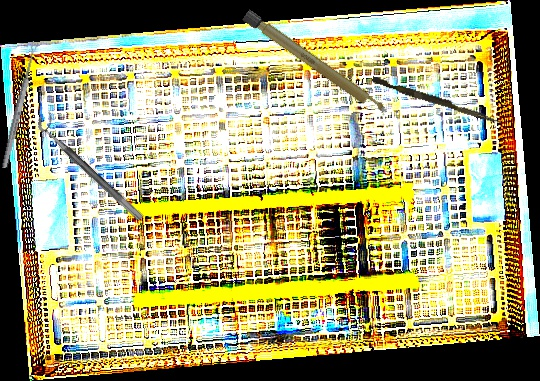Fixation Ring: (33, 109, 152, 222)
Pusher: (370, 76, 504, 125)
Scalpel Handle: (241, 9, 390, 119)
Surgical Spoon: (0, 40, 40, 170)
